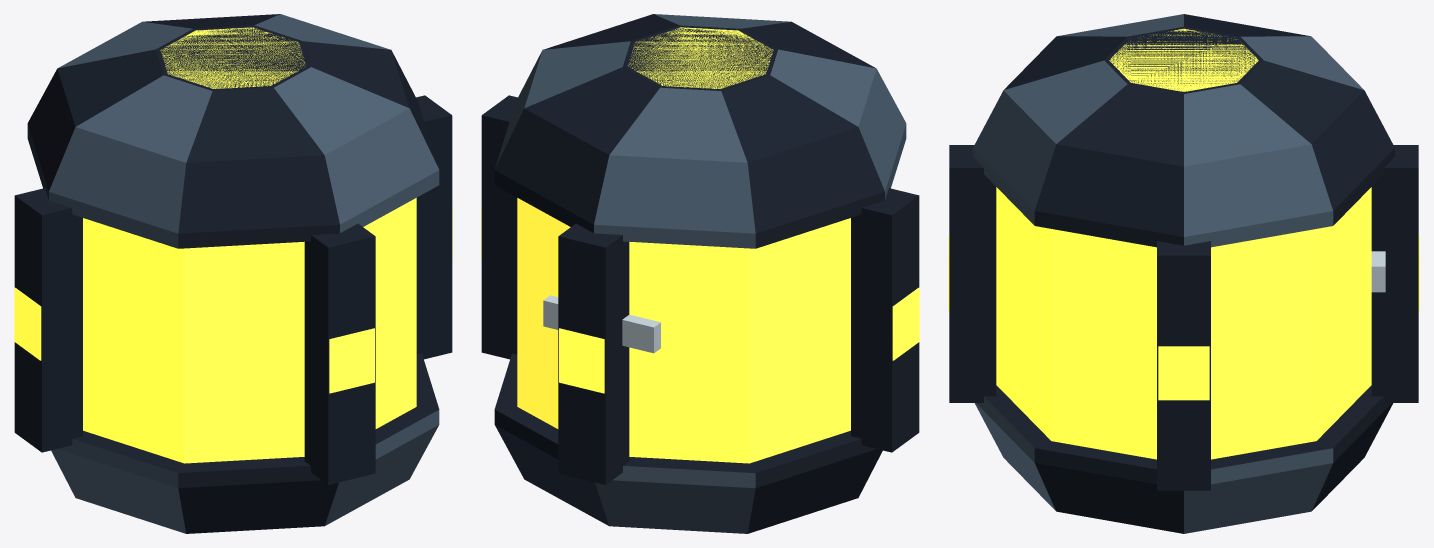
Rendered from prop-pod-energy-e415e279.glb.
The picture shows the model from 3 angles, left to right: view 1: azimuth 30°, elevation 25°; view 2: azimuth 150°, elevation 25°; view 3: azimuth 270°, elevation 25°; orthographic projection.
Visible parts, largest first — view 1: prop-pod-energy_body; view 2: prop-pod-energy_body; view 3: prop-pod-energy_body.
Part boxes in pixels (box(x1,y1,x2,y2)): prop-pod-energy_body: box(14, 14, 452, 533); prop-pod-energy_body: box(481, 14, 919, 533); prop-pod-energy_body: box(948, 14, 1419, 533).
Size of the model in its own units: 2 by 2 by 2.
